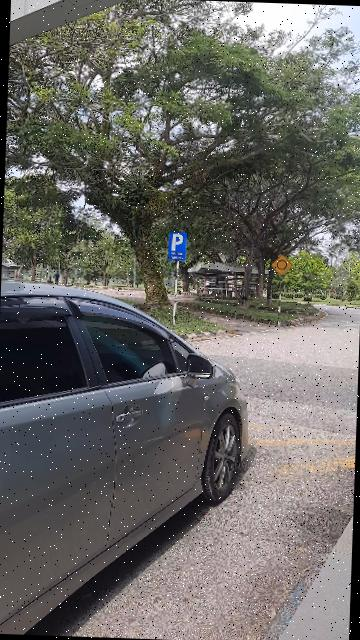car: (1, 283, 258, 640)
